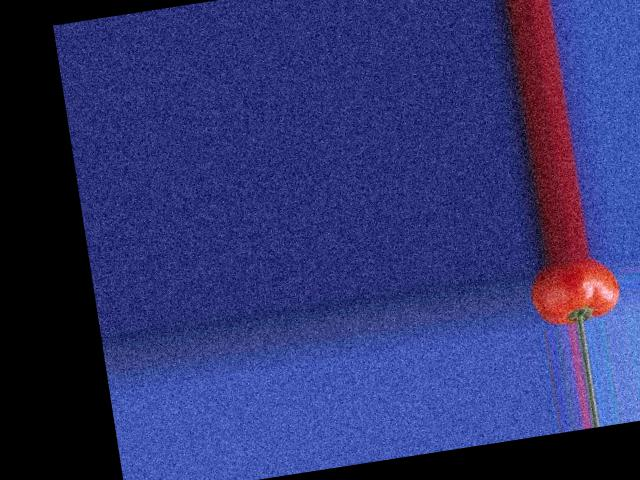tomato: (526, 252, 622, 330)
